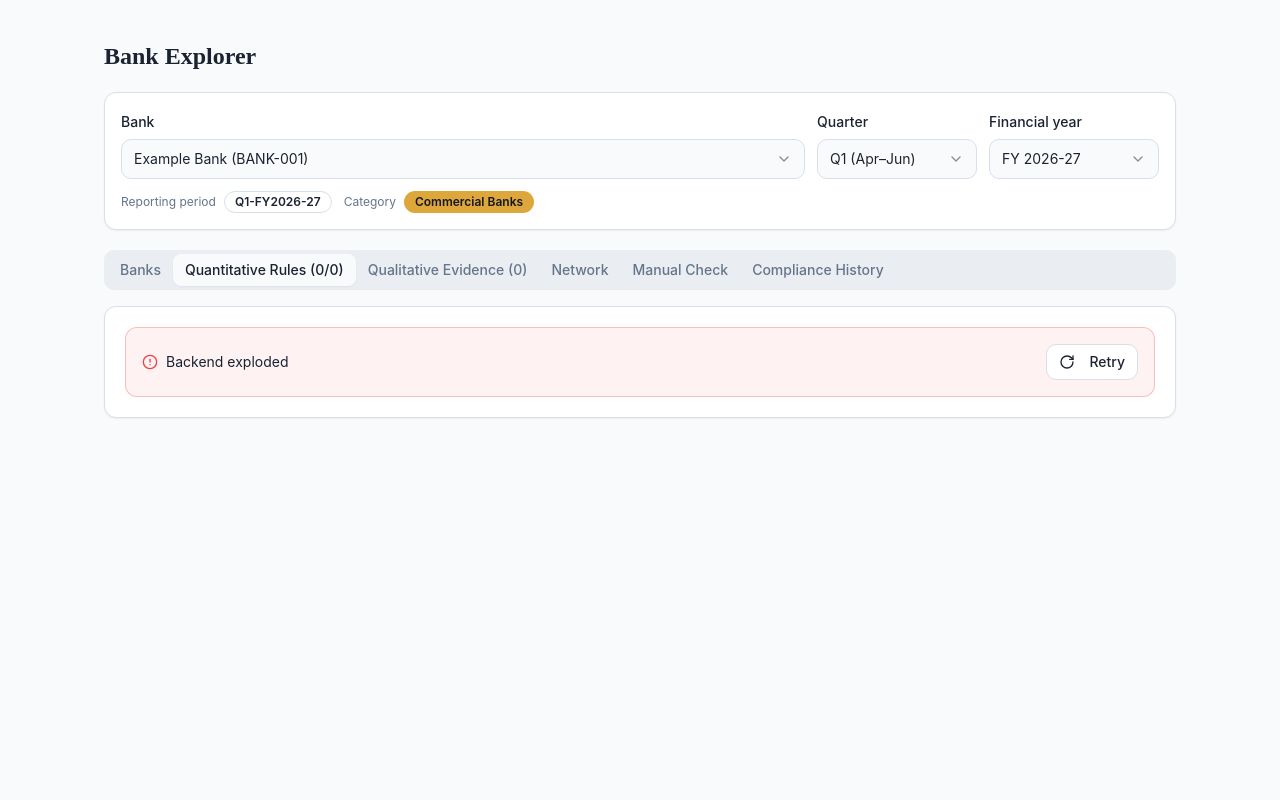
Test: CompliancePage › shows a retry action when rules fail to load
Expected: the text "Backend exploded" is shown, [166,352,288,372]
Click the button "Retry" at (1092, 362), box [1046,344,1138,380]
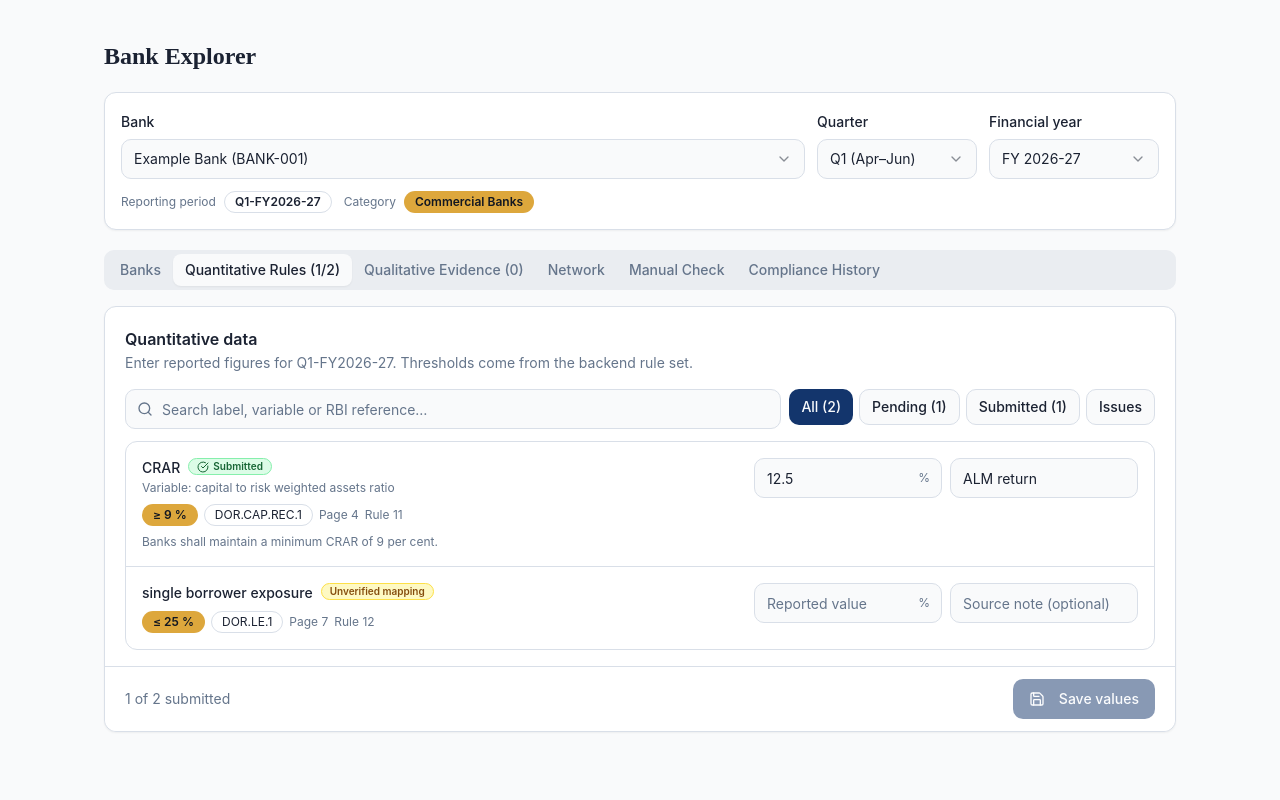
Now the text "CRAR" is shown, box [142,458,180,478]
